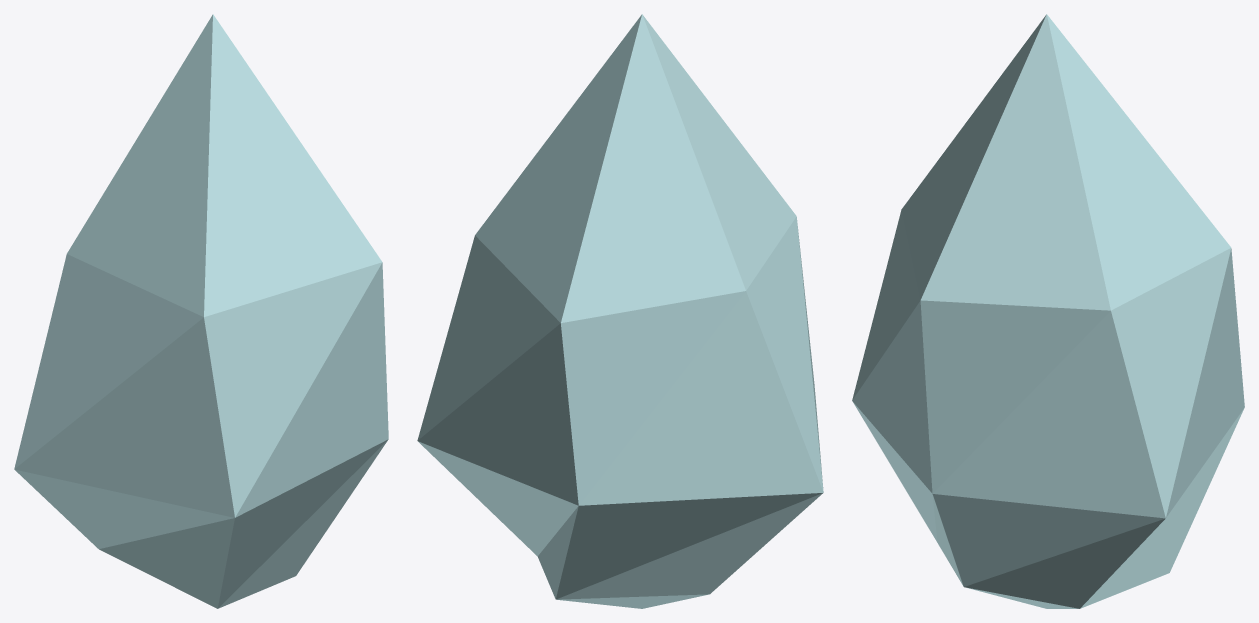
The model's file is lab_rift_fragment_a.glb.
The picture shows the model from 3 angles, left to right: view 1: azimuth 30°, elevation 25°; view 2: azimuth 150°, elevation 25°; view 3: azimuth 270°, elevation 25°; orthographic projection.
Visible parts, largest first — view 1: lab_rift_fragment_a; view 2: lab_rift_fragment_a; view 3: lab_rift_fragment_a.
Boxes of the visible parts, box(x1,y1,x2,y2) form: lab_rift_fragment_a: box(14, 14, 388, 608); lab_rift_fragment_a: box(417, 14, 823, 608); lab_rift_fragment_a: box(852, 14, 1244, 608).
Size of the model in its own units: 0.2639 by 0.42 by 0.2513.
